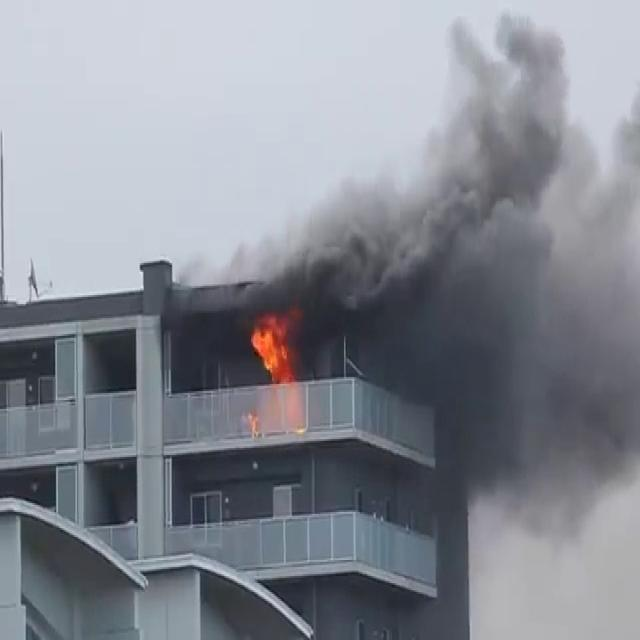Fire: (246, 308, 302, 385)
Smoke: (263, 4, 640, 562)
